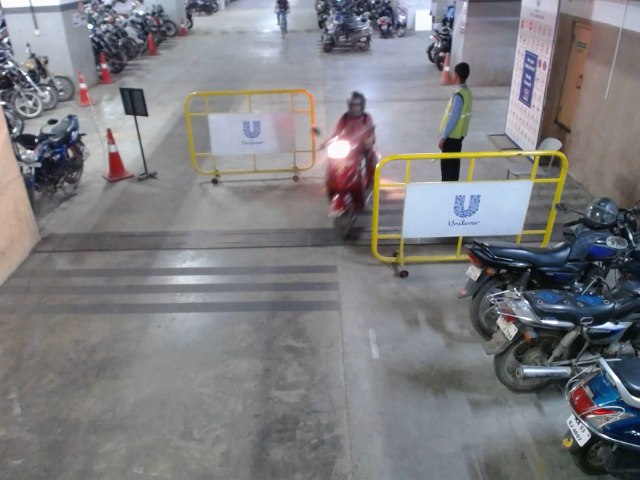with_helmet: (344, 91, 366, 117)
